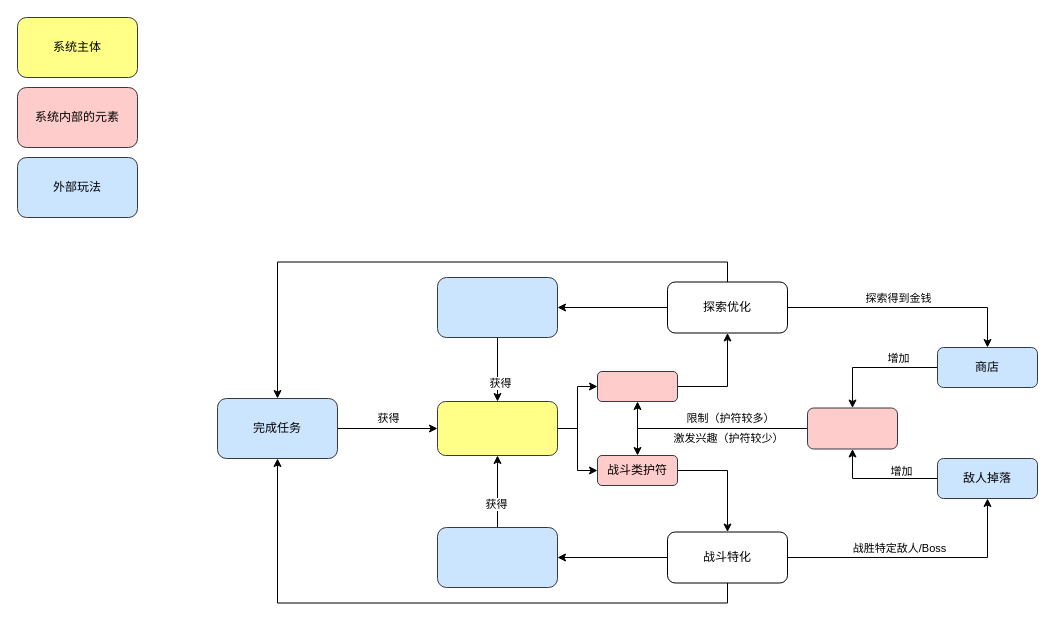
Some shapes in this 1055 by 629 pixel diagram are drawn without their labels. The centre of each missing label's shape, as x and y in pixels:
"Boss掉落" belongs at point (497, 557).
"地图收集" belongs at point (497, 307).
"护符" belongs at point (497, 428).
"护符槽上限" belongs at point (852, 428).
"探索类护符" belongs at point (637, 386).
